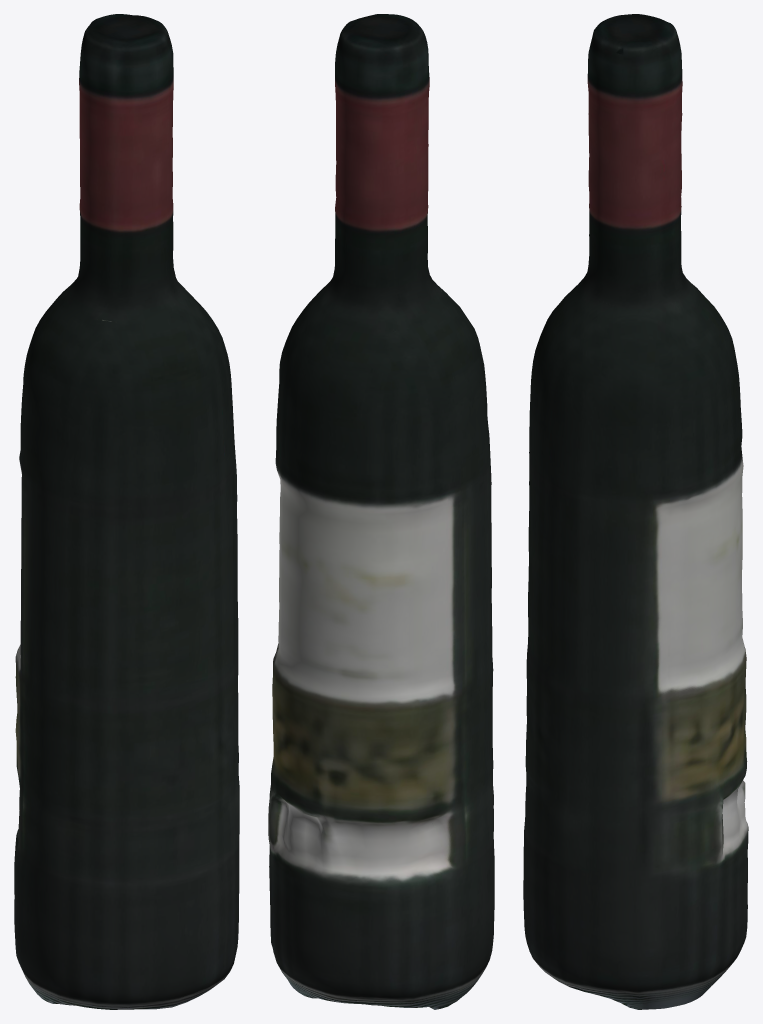
The model's file is WineBottle3.fbx.
3 renders of one model, left to right at view 1: azimuth 30°, elevation 25°; view 2: azimuth 150°, elevation 25°; view 3: azimuth 270°, elevation 25°, orthographic.
Visible parts, largest first — view 1: mesh; view 2: mesh; view 3: mesh.
Part boxes in pixels (x1=…): mesh: x1=14, y1=14, x2=239, y2=1009; mesh: x1=268, y1=14, x2=494, y2=1009; mesh: x1=523, y1=14, x2=748, y2=1009.
Bounding box in the file's own units: 21.41 × 99.99 × 21.58.
